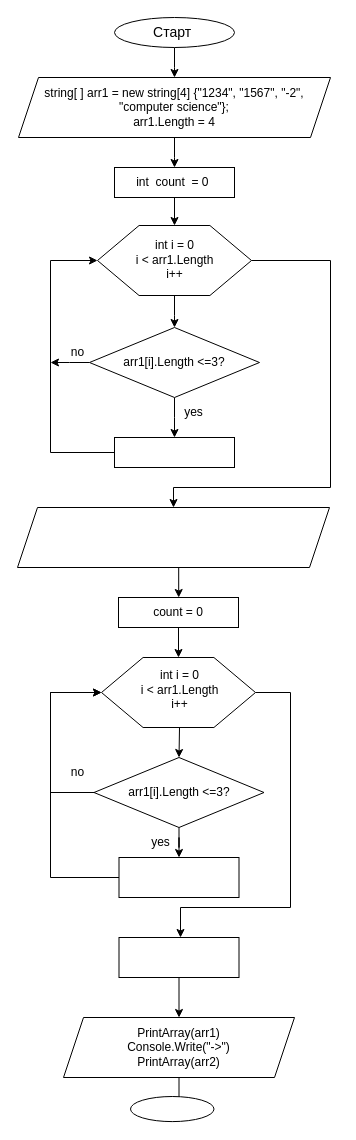
The diagram is 356 pixels wide and 1140 high, and some of its shapes have lost their labels. The box of each missing label's shape, as (x1, y1, x2, y2) in pixels:
arr2[count] = arr1[i] count++: (118, 856, 239, 898)
count++: (114, 436, 234, 468)
end: (130, 1096, 214, 1122)
return arr2: (118, 936, 239, 978)
string[ ] arr2 = new string[count]: (16, 506, 330, 568)
